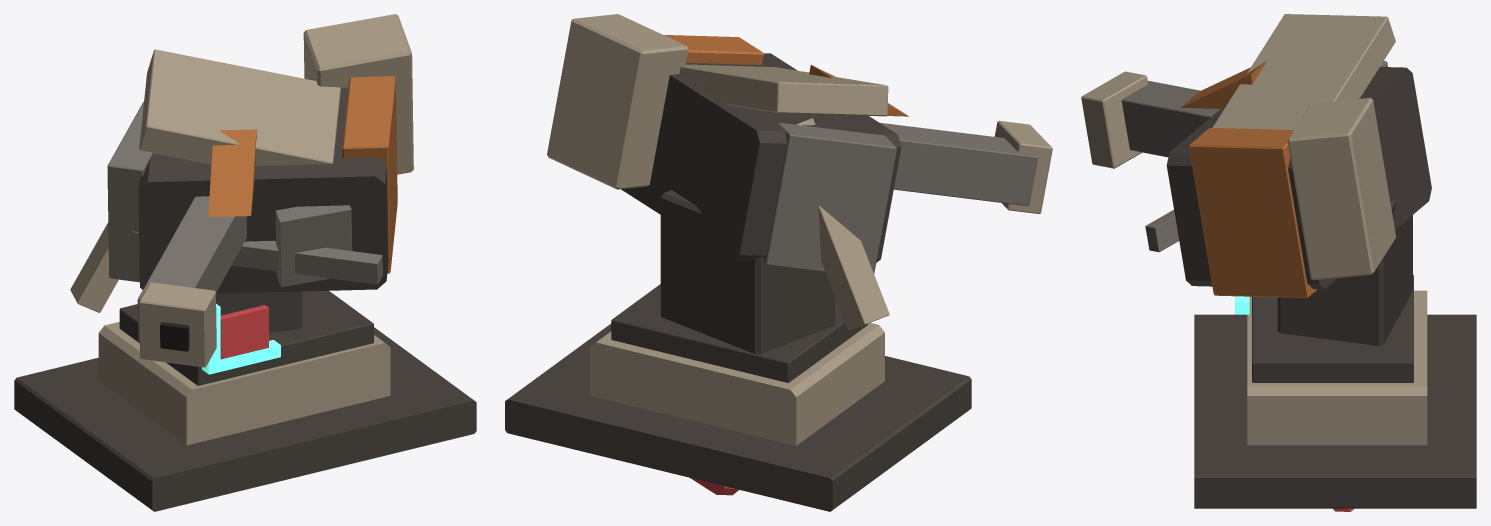
The model's file is critical.glb.
3 renders of one model, left to right at view 1: azimuth 30°, elevation 25°; view 2: azimuth 150°, elevation 25°; view 3: azimuth 270°, elevation 25°, orthographic. The views are drawn at different scales.
Visible parts, largest first — view 1: ROLE_primary, ROLE_secondary, ROLE_bareMetal, ROLE_accent, ROLE_critical, ROLE_interaction, ROLE_rubber; view 2: ROLE_primary, ROLE_secondary, ROLE_bareMetal, ROLE_accent; view 3: ROLE_primary, ROLE_secondary, ROLE_accent, ROLE_bareMetal.
Boxes of the visible parts, <box> form: ROLE_primary: <box>14,79,476,511</box>; ROLE_secondary: <box>70,14,413,445</box>; ROLE_bareMetal: <box>107,102,382,341</box>; ROLE_accent: <box>208,76,397,273</box>; ROLE_critical: <box>220,305,268,359</box>; ROLE_interaction: <box>202,304,280,374</box>; ROLE_rubber: <box>160,322,189,351</box>; ROLE_primary: <box>505,53,971,511</box>; ROLE_secondary: <box>547,14,1052,445</box>; ROLE_bareMetal: <box>764,122,1037,273</box>; ROLE_accent: <box>664,35,908,116</box>; ROLE_primary: <box>1166,67,1476,508</box>; ROLE_secondary: <box>1081,14,1427,445</box>; ROLE_accent: <box>1180,60,1318,297</box>; ROLE_bareMetal: <box>1121,61,1387,252</box>.
Bounding box in the file's own units: 4.8 × 5.17 × 4.22.
